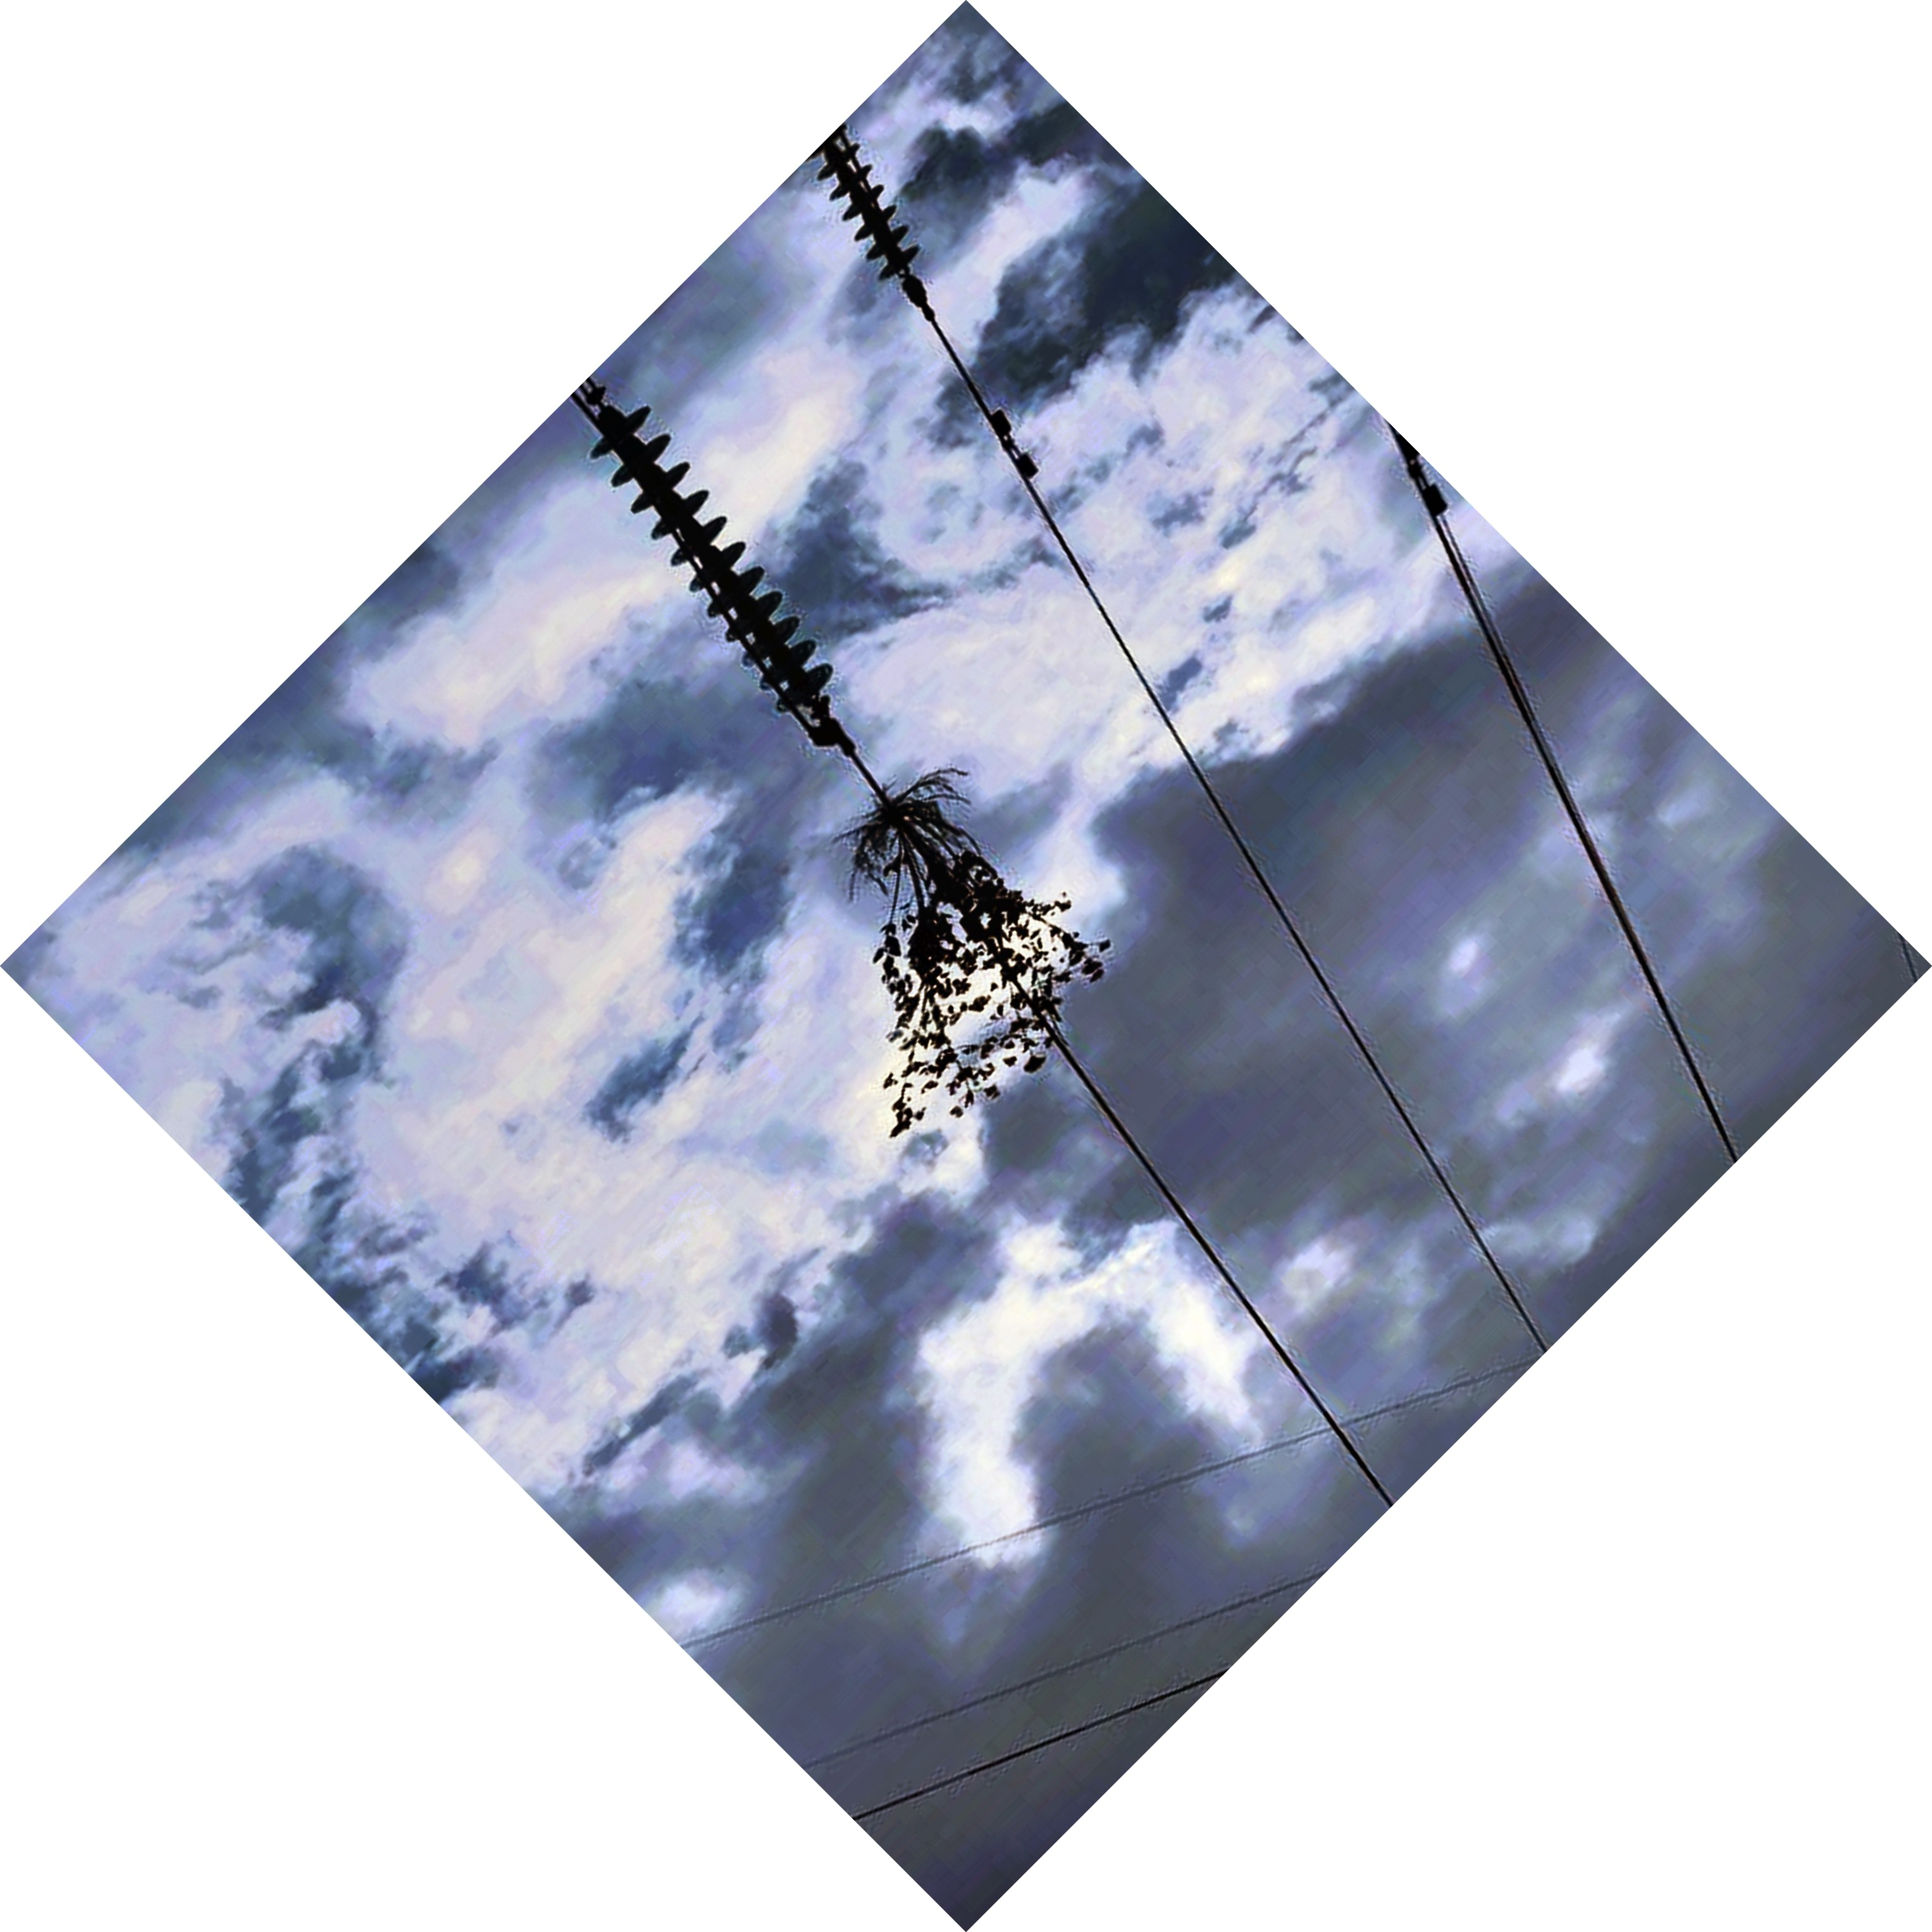wire foreign body: (793, 770, 1138, 1143)
